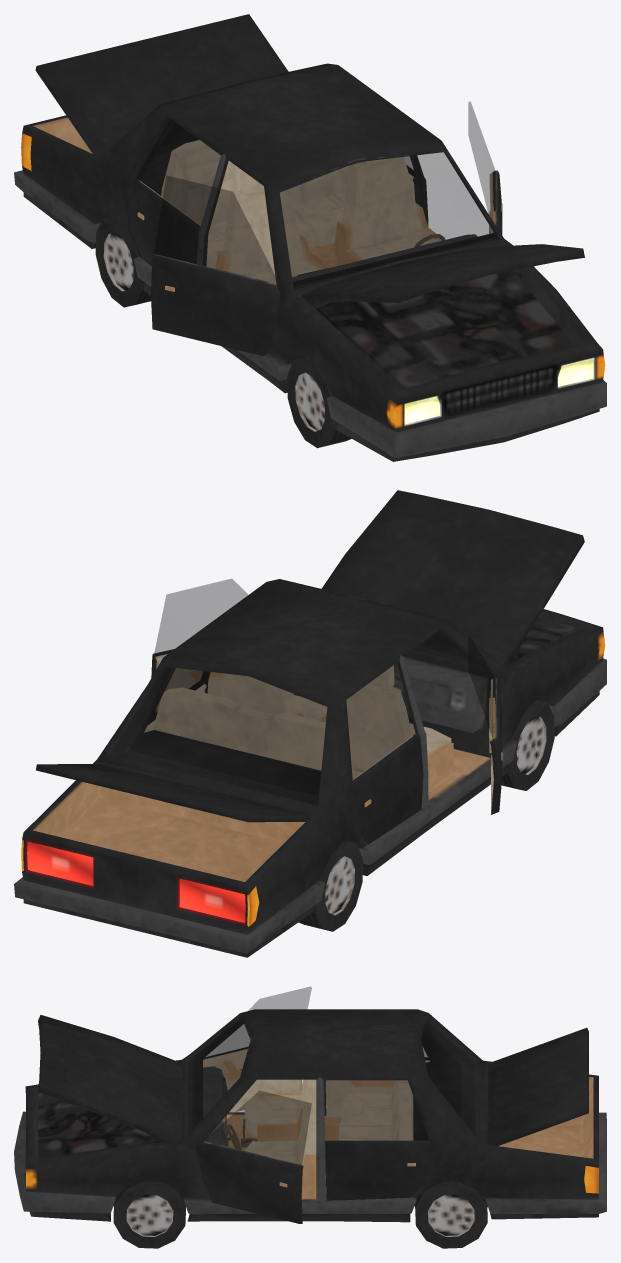
Rendered from ps1car.glb.
3 views of the same model, one above another, from view 1: azimuth 30°, elevation 25°; view 2: azimuth 150°, elevation 25°; view 3: azimuth 270°, elevation 25° (orthographic). The views are drawn at different scales.
Parts seen in each view (by area): view 1: R_Wheel_Front; view 2: R_Wheel_Front; view 3: R_Wheel_Front.
Boxes of the visible parts, x1,y1,x2,y2 form: R_Wheel_Front: (14,14,606,461); R_Wheel_Front: (14,490,606,957); R_Wheel_Front: (14,986,606,1248).
Bounding box in the file's own units: 2.55 × 1.48 × 4.73.
2 materials, 2 textured.
